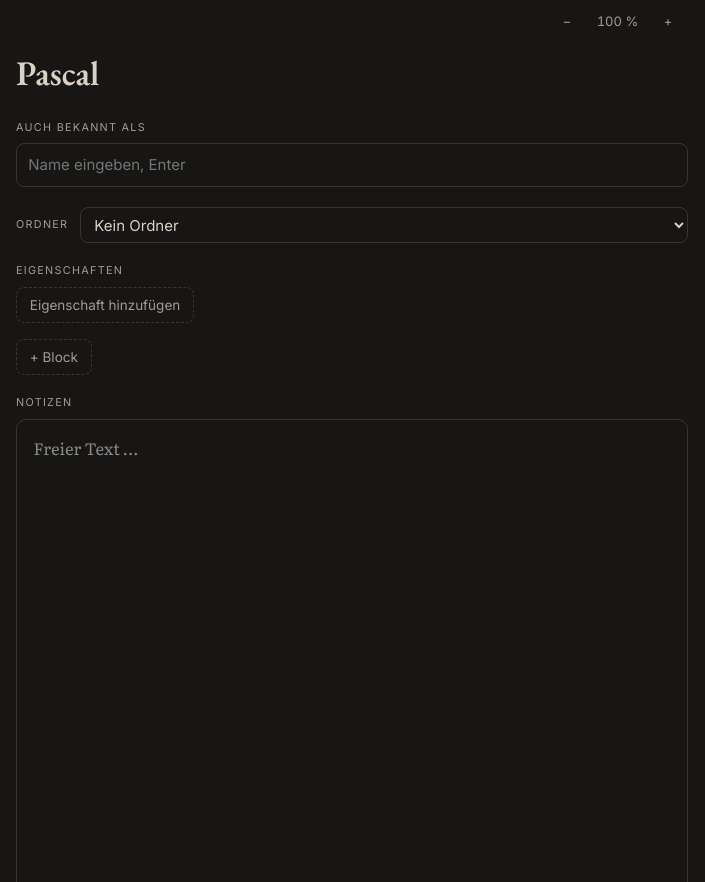
Test: an empty name shows Unbenannt after leaving the field
Clear the field named "Name" at (352, 74), box [16, 48, 688, 100]
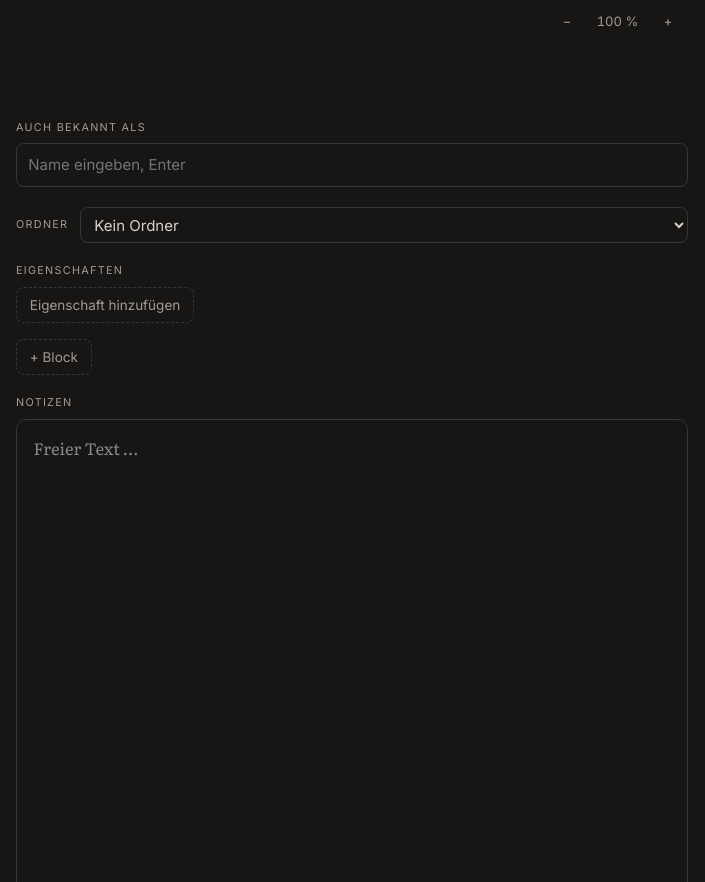
Press Tab
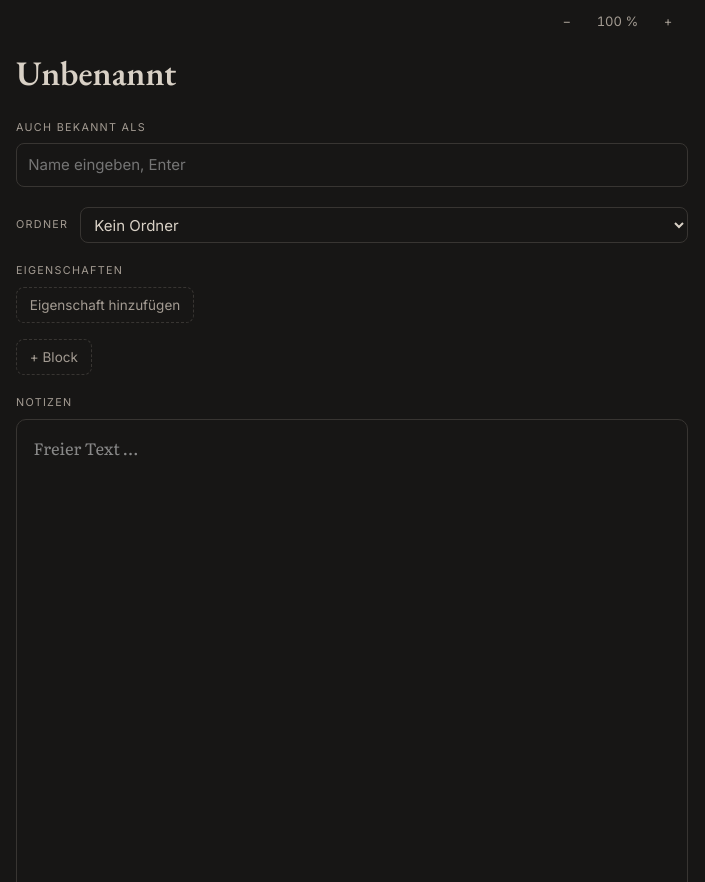
Result: the field named "Name" holds "Unbenannt" at [16, 48, 688, 100]
